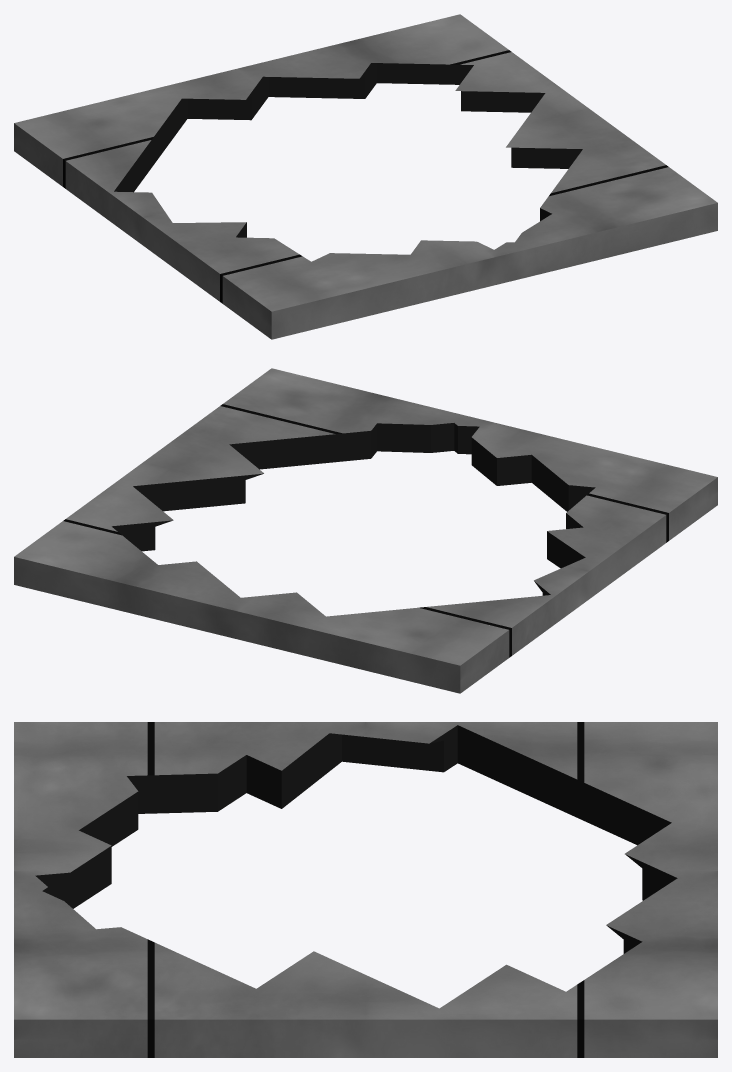
The model's file is Dirty Carbon Floor Broken M.fbx.
The picture shows the model from 3 angles, top to bottom: view 1: azimuth 30°, elevation 25°; view 2: azimuth 150°, elevation 25°; view 3: azimuth 270°, elevation 25°; orthographic projection. The views are drawn at different scales.
Parts seen in each view (by area): view 1: dirty carbon grey Mesh (1), dirty carbon dark grey Mesh (1), carbon dark grey Mesh (1), white led Mesh (1), white led off Mesh (1); view 2: dirty carbon grey Mesh (1), dirty carbon dark grey Mesh (1), carbon dark grey Mesh (1), white led Mesh (1), white led off Mesh (1); view 3: dirty carbon grey Mesh (1), dirty carbon dark grey Mesh (1), carbon dark grey Mesh (1), white led Mesh (1), white led off Mesh (1).
Part boxes in pixels (x1,y1,x2,y2): dirty carbon grey Mesh (1): [14, 14, 717, 339]; dirty carbon dark grey Mesh (1): [65, 52, 665, 301]; carbon dark grey Mesh (1): [114, 63, 582, 237]; white led Mesh (1): [220, 165, 668, 303]; white led off Mesh (1): [63, 50, 511, 188]; dirty carbon grey Mesh (1): [14, 368, 717, 693]; dirty carbon dark grey Mesh (1): [66, 406, 666, 655]; carbon dark grey Mesh (1): [112, 423, 595, 595]; white led Mesh (1): [220, 404, 668, 542]; white led off Mesh (1): [63, 519, 511, 657]; dirty carbon grey Mesh (1): [14, 722, 717, 1057]; dirty carbon dark grey Mesh (1): [154, 722, 577, 1057]; carbon dark grey Mesh (1): [35, 725, 677, 953]; white led Mesh (1): [147, 722, 154, 1057]; white led off Mesh (1): [577, 722, 584, 1057].
Size of what is drawn, in the model's own units: 5 by 0.3 by 5.
